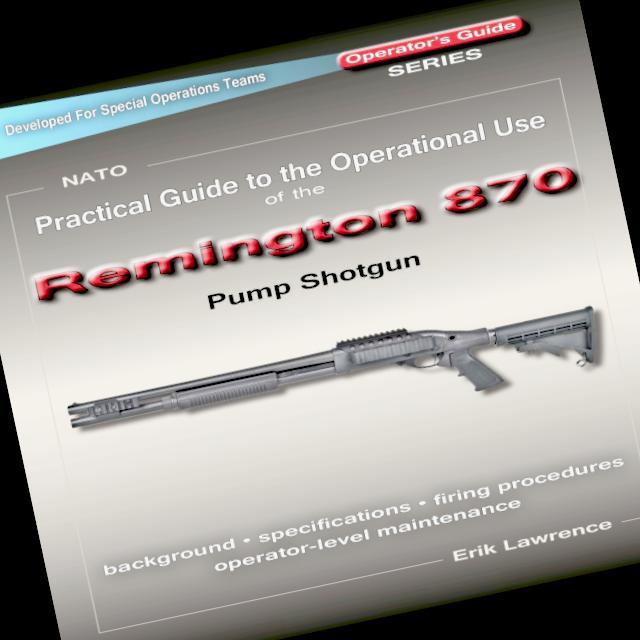shotgun: (37, 232, 640, 503)
